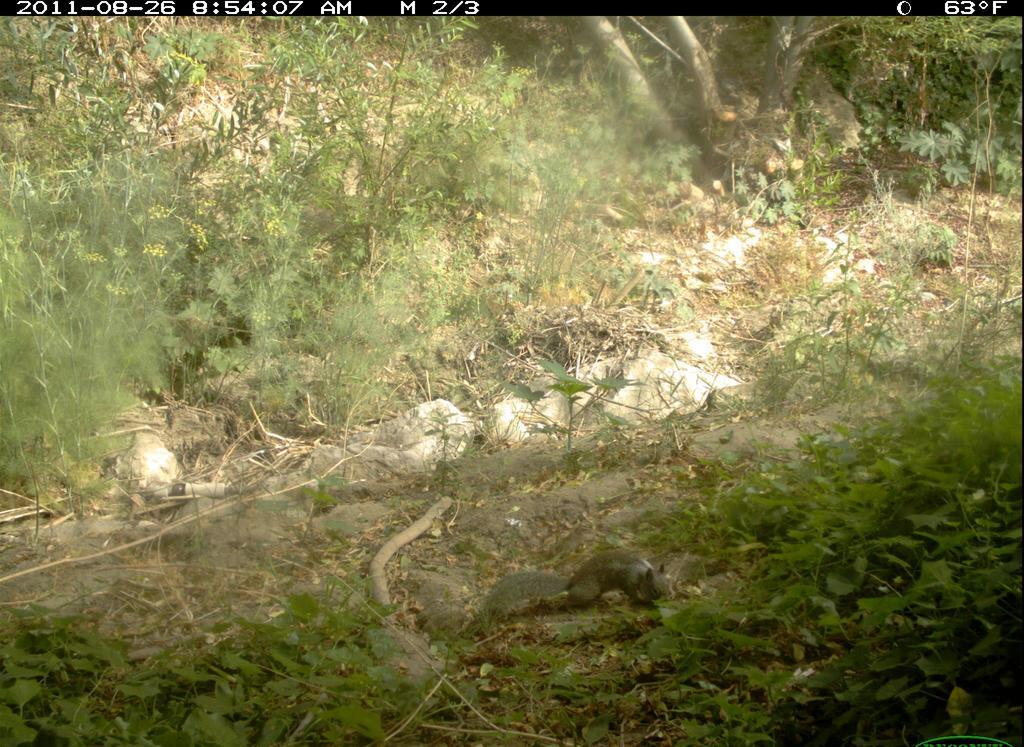squirrel: (479, 538, 690, 630)
